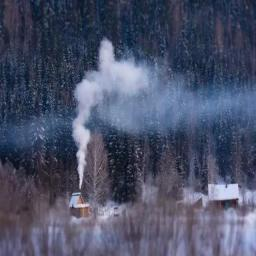Low smoke: (62, 57, 256, 207)
